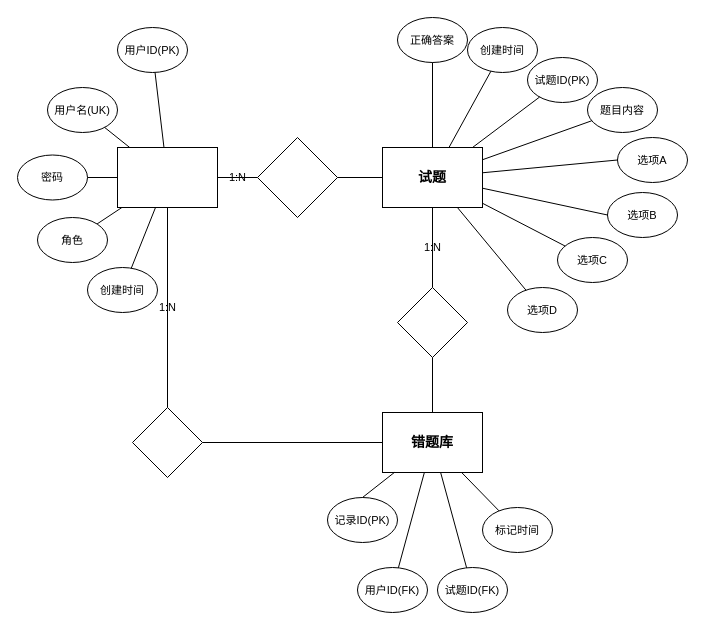
This 705x630 diagram has some shape labels left out. The box of each missing label's shape, as (x1, y1, x2, y2) in pixels:
产生: (132, 406, 202, 478)
创建管理(role=ADMIN): (256, 136, 338, 218)
用户: (116, 146, 218, 208)
被标记: (396, 286, 468, 358)
